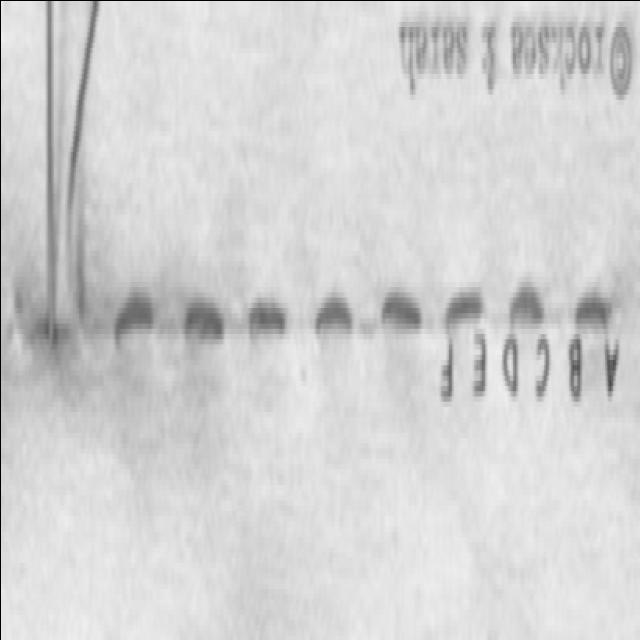stitch: (182, 311, 222, 357), (380, 300, 421, 344), (115, 307, 152, 353), (315, 305, 352, 348), (445, 298, 484, 336), (509, 296, 542, 340), (248, 309, 285, 348), (574, 305, 608, 340)
